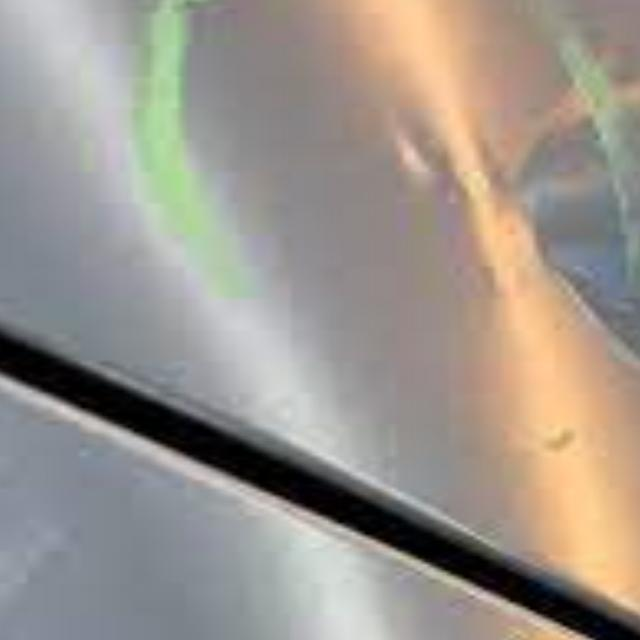dents: (337, 102, 503, 225), (5, 480, 116, 628), (505, 399, 618, 485)
